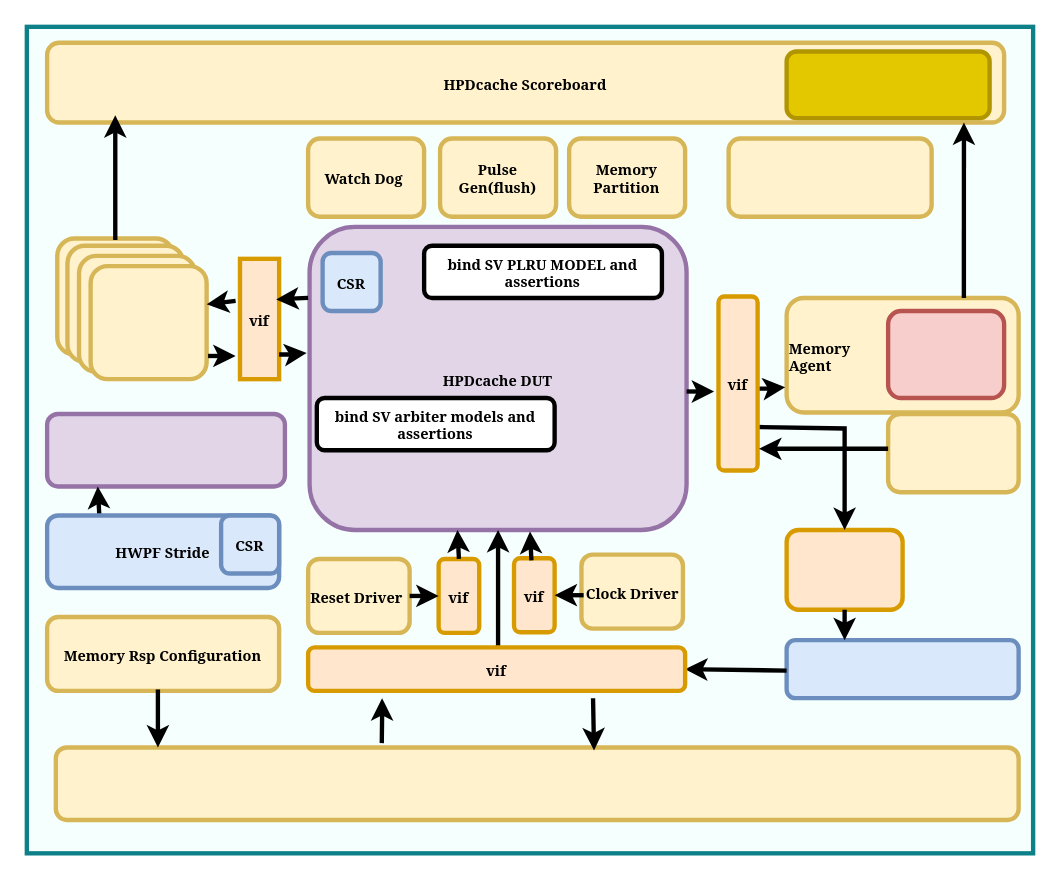
Some shapes in this 1060 by 880 pixel diagram are drawn without their labels. The centre of each missing label's shape, as x and y in pixels:
"axi2mem" belongs at (x=844, y=569).
"BP Driver" belongs at (x=952, y=452).
"HPDcache Request Agent" belongs at (x=148, y=322).
"Memory Request Arbiter" belongs at (x=902, y=668).
"Memory Response Model" belongs at (x=536, y=783).
"Memory Shadow" belongs at (x=887, y=84).
"Monitor" belongs at (x=945, y=353).
"Scoreboard HWPF Stride" belongs at (x=165, y=449).
"Top Configuration" belongs at (x=829, y=177).
